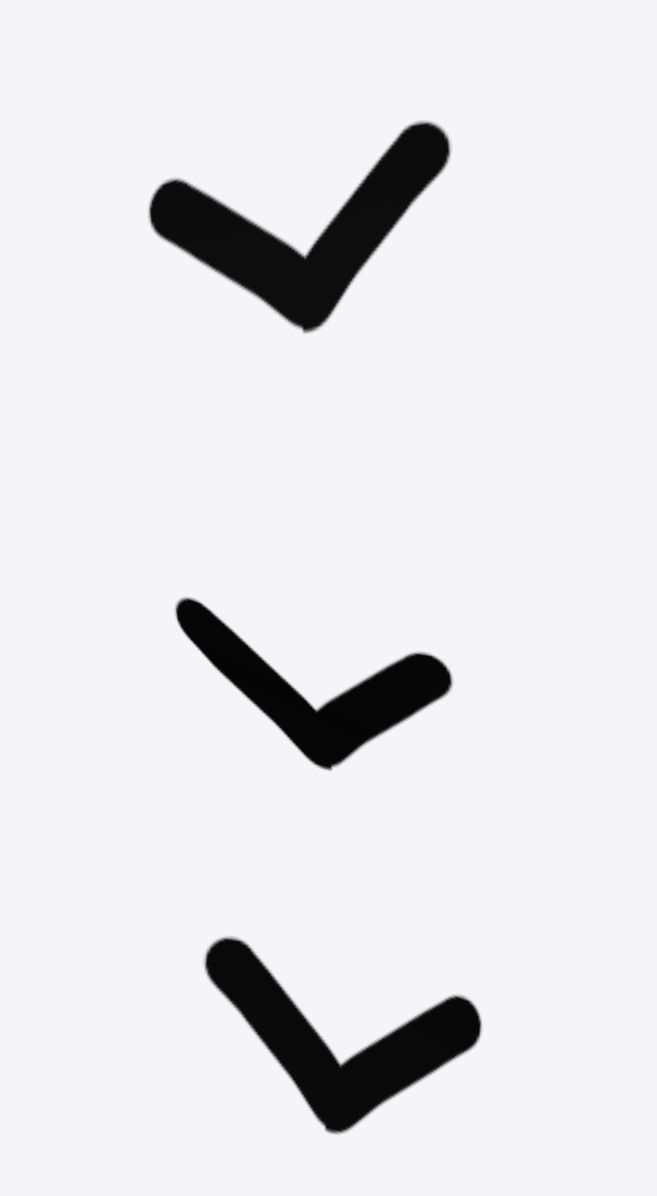
Rendered from 01-Digital-Face-mouth.glb.
The picture shows the model from 3 angles, top to bottom: view 1: azimuth 30°, elevation 25°; view 2: azimuth 150°, elevation 25°; view 3: azimuth 330°, elevation 25°; orthographic projection. The views are drawn at different scales.
Visible parts, largest first — view 1: 01-Digital-Face-mouth; view 2: 01-Digital-Face-mouth; view 3: 01-Digital-Face-mouth.
Part boxes in pixels (left/top/right/bottom): 01-Digital-Face-mouth: left=149, top=121, right=450, bottom=332; 01-Digital-Face-mouth: left=175, top=597, right=452, bottom=770; 01-Digital-Face-mouth: left=204, top=937, right=481, bottom=1133.
Bounding box in the file's own units: 0.3059 × 0.1149 × 0.0404.
Materials: 1 (1 with a texture image).
